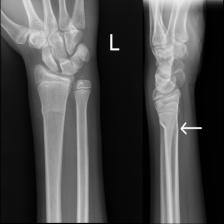greenstick-fracture: (0, 0, 207, 224)
